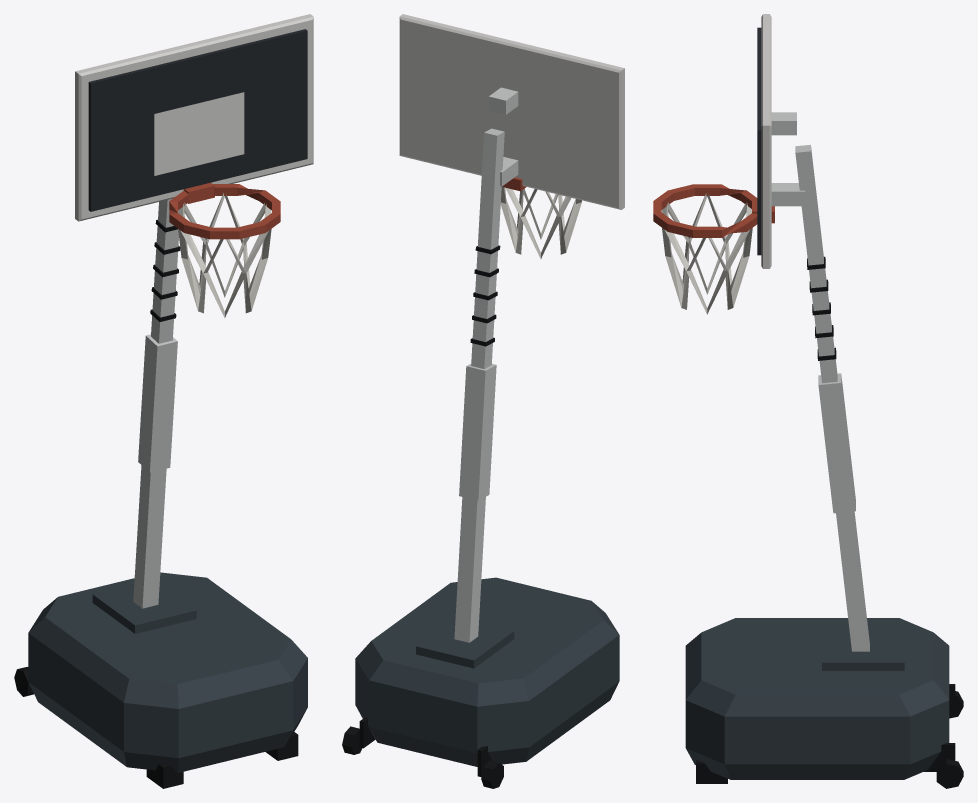
File: driveway-basketball-hoop-40deb7.glb
3 renders of one model, left to right at view 1: azimuth 30°, elevation 25°; view 2: azimuth 150°, elevation 25°; view 3: azimuth 270°, elevation 25°, orthographic. The views are drawn at different scales.
Visible parts, largest first — view 1: driveway-basketball-hoop, net; view 2: driveway-basketball-hoop, net, wheel-l; view 3: driveway-basketball-hoop, net, wheel-r.
Boxes of the visible parts, x1=… form: driveway-basketball-hoop: x1=28, y1=14, x2=313, y2=788; net: x1=178, y1=193, x2=271, y2=318; driveway-basketball-hoop: x1=355, y1=14, x2=624, y2=776; net: x1=500, y1=187, x2=581, y2=258; wheel-l: x1=481, y1=760, x2=503, y2=788; driveway-basketball-hoop: x1=653, y1=14, x2=955, y2=783; net: x1=662, y1=193, x2=752, y2=314; wheel-r: x1=936, y1=759, x2=963, y2=788.
Bounding box in the file's own units: 1.15 × 3.28 × 1.35.
